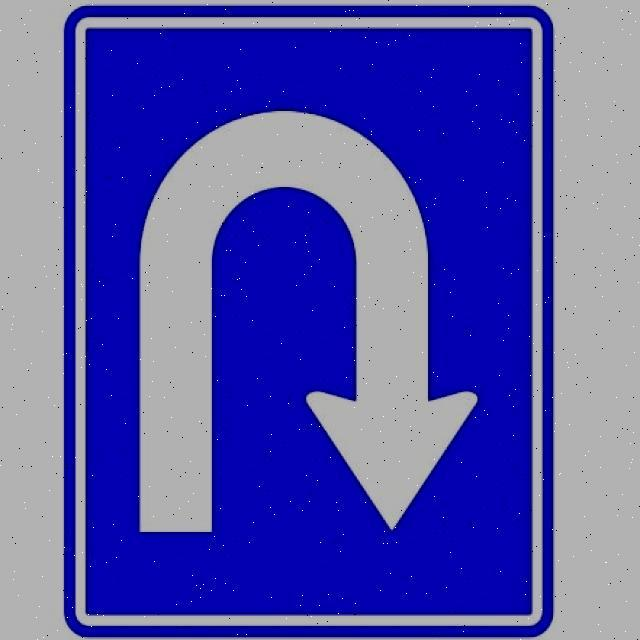Putar Balik: (63, 6, 554, 638)
